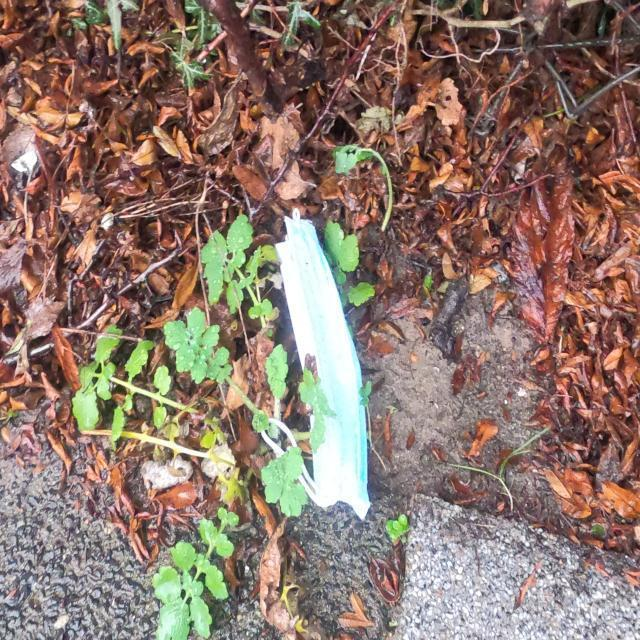Mask: (268, 114, 383, 436)
